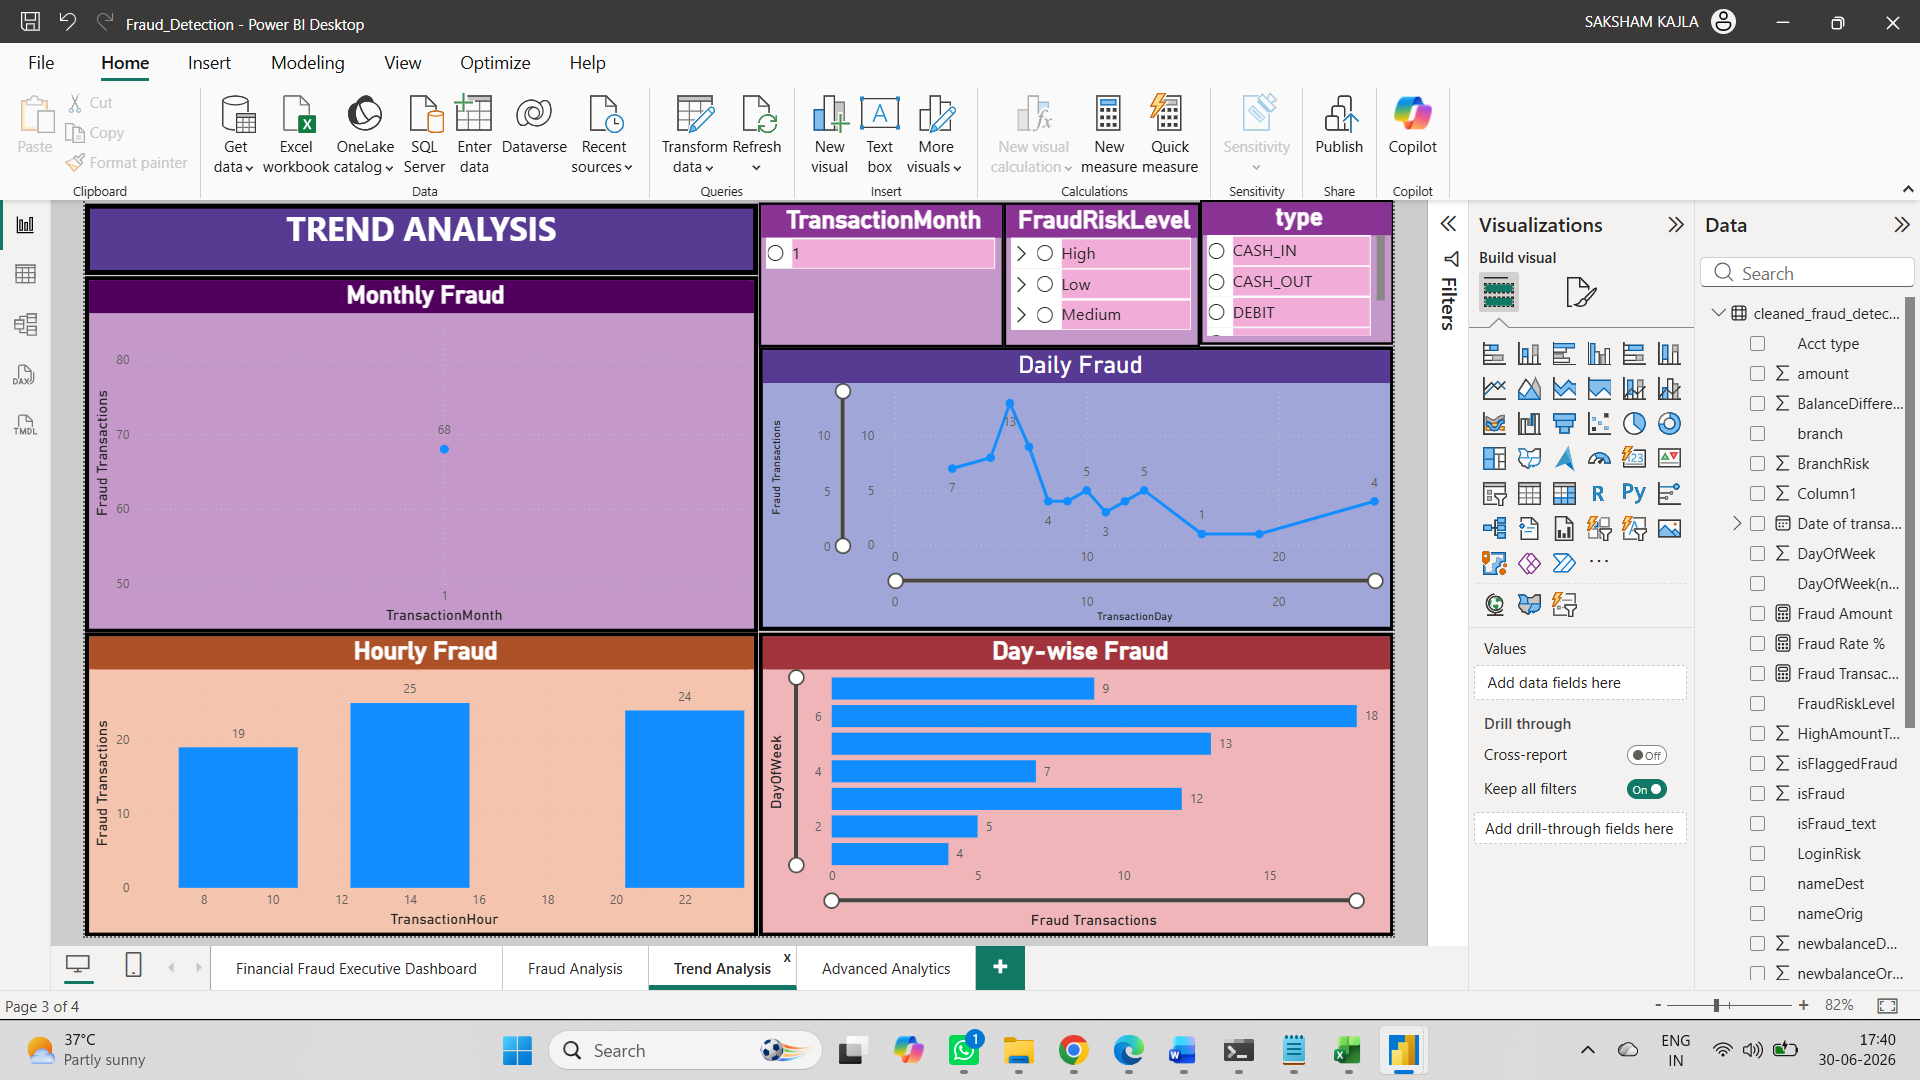

The page's visual inventory and layout, read from the dashboard file:
{"tool":"powerbi","page":{"name":"Trend Analysis","canvas":[1280,720],"ordinal":2},"visuals":[{"type":"lineChart","title":"Monthly Fraud","fields":{"Category":["cleaned_fraud_detection.TransactionMonth"],"Y":["cleaned_fraud_detection.Fraud Transactions"]},"box":[0,74.1,658.7,348.5],"z":0},{"type":"lineChart","title":"Daily Fraud","fields":{"Category":["cleaned_fraud_detection.TransactionDay"],"Y":["cleaned_fraud_detection.Fraud Transactions"]},"box":[658.7,142.7,621.6,278.6],"z":1000},{"type":"clusteredColumnChart","title":"Hourly Fraud","fields":{"Category":["cleaned_fraud_detection.TransactionHour"],"Y":["cleaned_fraud_detection.Fraud Transactions"]},"box":[0,422.6,658.7,297.8],"z":2000},{"type":"clusteredBarChart","title":"Day-wise Fraud","fields":{"Category":["cleaned_fraud_detection.DayOfWeek"],"Y":["cleaned_fraud_detection.Fraud Transactions"]},"box":[658.7,422.6,621.6,297.8],"z":3000},{"type":"listSlicer","fields":{"Values":["cleaned_fraud_detection.TransactionMonth"]},"box":[658.7,2.7,240.1,141.3],"z":4000},{"type":"listSlicer","fields":{"Values":["cleaned_fraud_detection.FraudRiskLevel","cleaned_fraud_detection.type"]},"box":[898.8,2.7,192.1,141.3],"z":5000},{"type":"listSlicer","fields":{"Values":["cleaned_fraud_detection.type"]},"box":[1090.9,0,189.4,141.3],"z":6000},{"type":"textbox","box":[0,4.1,658.7,70],"z":7000}]}

Visuals, with their boxes on the page's 1280x720 design canvas (x1, y1, x2, y2). These are canvas units, not pixel positions in the 1920x1080 screenshot, which may show the page scaled, cropped or inside an application window:
"Monthly Fraud" lineChart: rect(0, 74, 659, 423)
"Daily Fraud" lineChart: rect(659, 143, 1280, 421)
"Hourly Fraud" clusteredColumnChart: rect(0, 423, 659, 720)
"Day-wise Fraud" clusteredBarChart: rect(659, 423, 1280, 720)
listSlicer - cleaned_fraud_detection.TransactionMonth: rect(659, 3, 899, 144)
listSlicer - cleaned_fraud_detection.FraudRiskLevel x cleaned_fraud_detection.type: rect(899, 3, 1091, 144)
listSlicer - cleaned_fraud_detection.type: rect(1091, 0, 1280, 141)
textbox: rect(0, 4, 659, 74)
